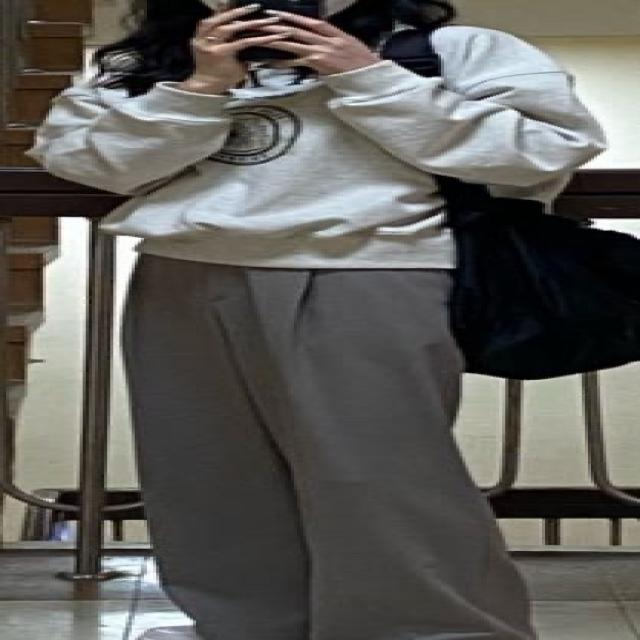mtm: (26, 21, 600, 270)
slacks: (118, 249, 542, 640)
